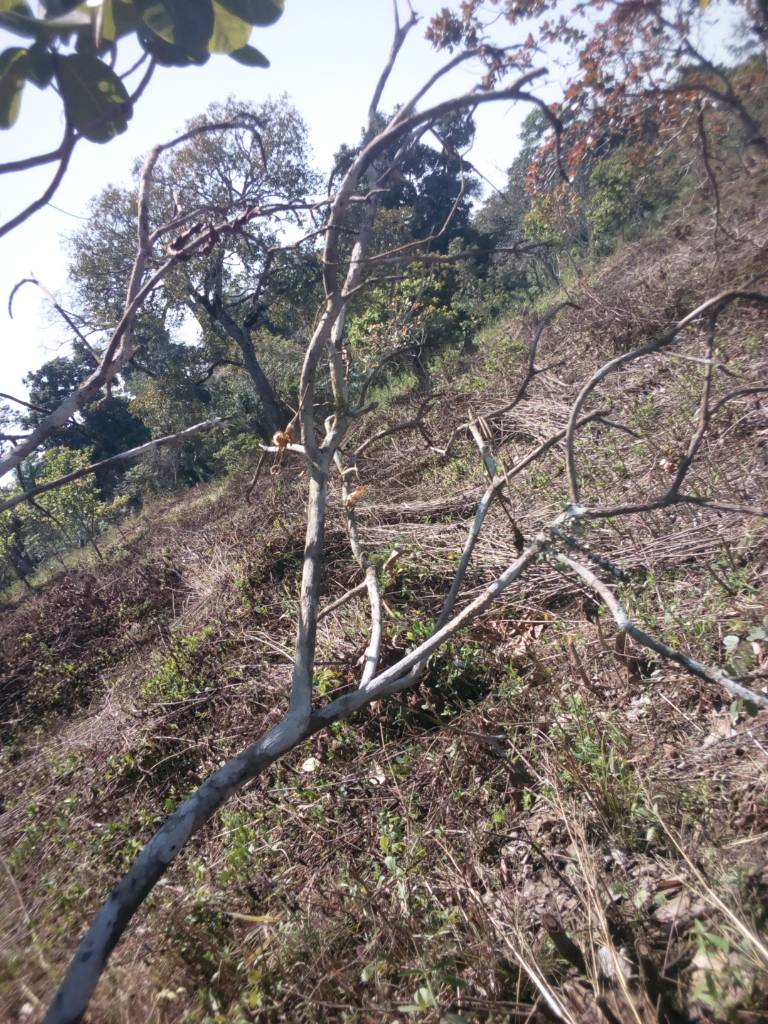Dessèchement des bourgeons: (152, 216, 265, 278)
